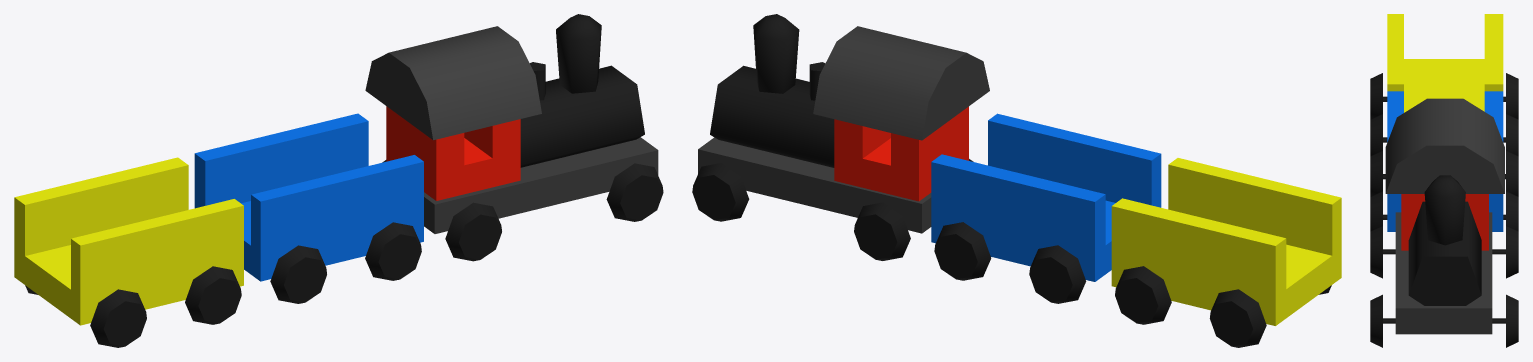
The model's file is Train_A.FBX.
3 views of the same model, side by side, from view 1: azimuth 30°, elevation 25°; view 2: azimuth 150°, elevation 25°; view 3: azimuth 270°, elevation 25° (orthographic). The views are drawn at different scales.
Parts seen in each view (by area): view 1: Train, Train_Car_B, Train_Car_A; view 2: Train, Train_Car_B, Train_Car_A; view 3: Train, Train_Car_B, Train_Car_A.
Boxes of the visible parts, box(x1,y1,x2,y2) form: Train: box(365, 14, 663, 261); Train_Car_B: box(14, 157, 243, 347); Train_Car_A: box(194, 113, 423, 303); Train: box(692, 14, 989, 260); Train_Car_B: box(1111, 158, 1341, 347); Train_Car_A: box(931, 113, 1161, 303); Train: box(1370, 98, 1518, 347); Train_Car_B: box(1370, 14, 1518, 155); Train_Car_A: box(1370, 91, 1518, 231).
Size of the model in its own units: 189 by 57.11 by 47.21.
